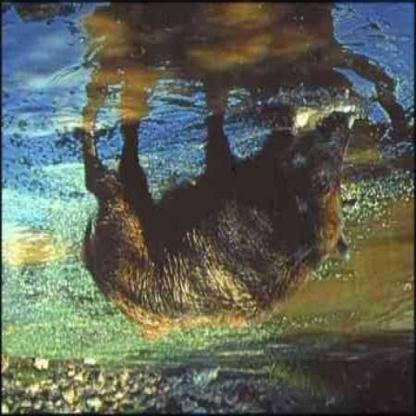boar: (52, 90, 357, 359)
